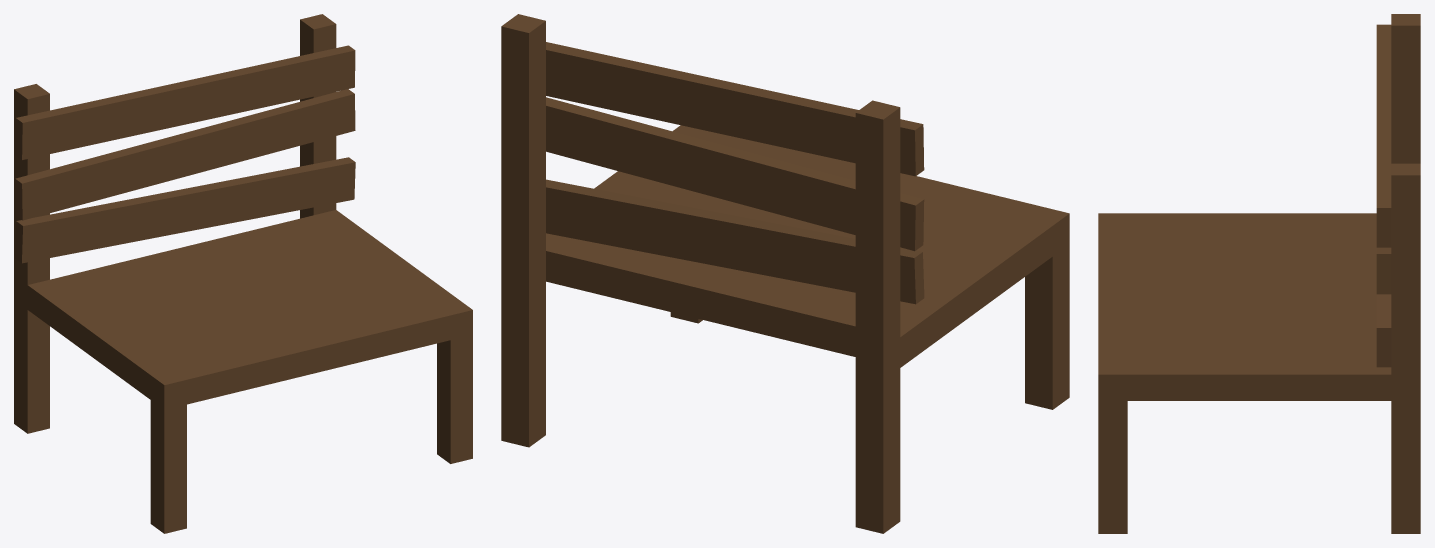
Rendered from egypt_egypt-market-table-short.fbx.
The picture shows the model from 3 angles, left to right: view 1: azimuth 30°, elevation 25°; view 2: azimuth 150°, elevation 25°; view 3: azimuth 270°, elevation 25°; orthographic projection. The views are drawn at different scales.
Visible parts, largest first — view 1: egypt_egypt_market_table_short; view 2: egypt_egypt_market_table_short; view 3: egypt_egypt_market_table_short.
Part boxes in pixels (x1,y1,x2,y2): egypt_egypt_market_table_short: [14, 14, 472, 533]; egypt_egypt_market_table_short: [501, 14, 1069, 533]; egypt_egypt_market_table_short: [1098, 14, 1420, 533].
Size of the model in its own units: 200 by 192 by 156.
